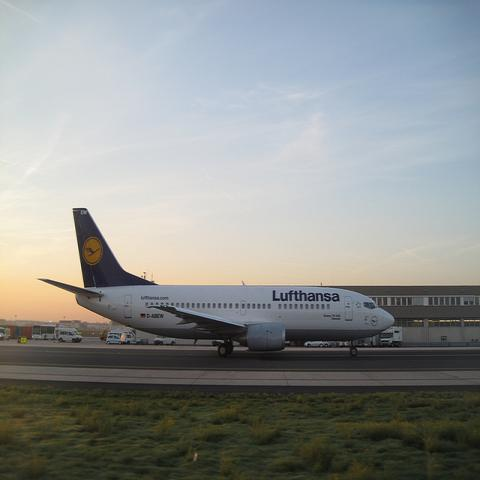bus: (32, 325, 56, 339)
car: (56, 329, 79, 343), (153, 335, 176, 345), (106, 333, 124, 345), (304, 340, 324, 348)
truck: (380, 326, 402, 348)
